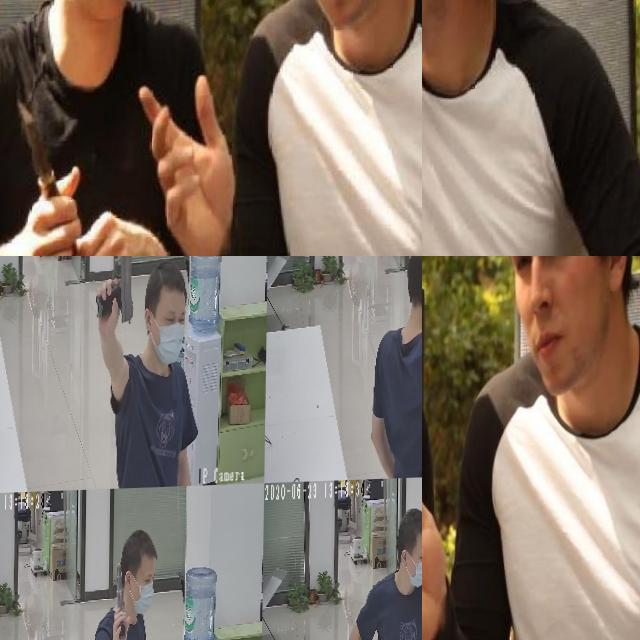-: (4, 87, 85, 256), (422, 423, 466, 623), (422, 134, 461, 256)
gun-knife-thesis - v11 Yolov5 augmented: (94, 256, 134, 328), (112, 558, 133, 640)
